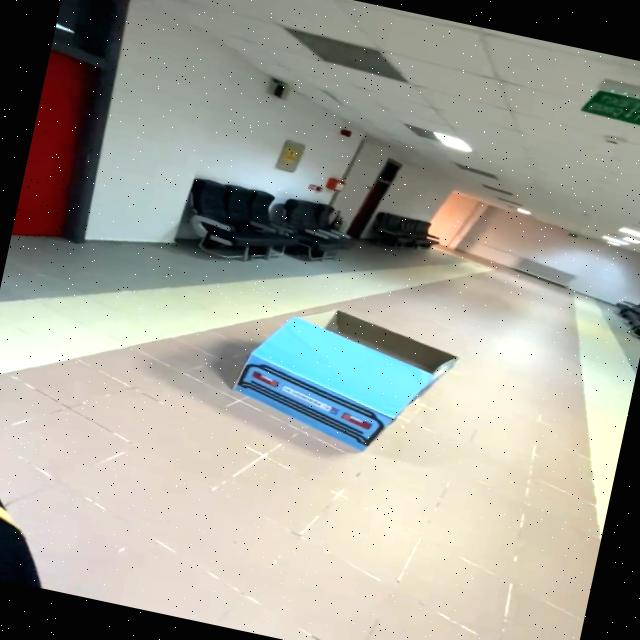blue_car: (187, 278, 507, 488)
